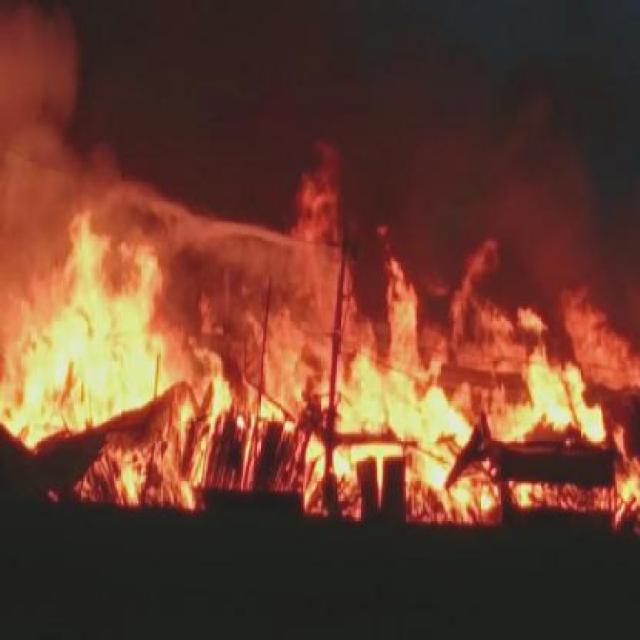Fire: (1, 144, 640, 382), (64, 222, 156, 412), (347, 356, 465, 450), (410, 452, 496, 526), (22, 326, 62, 443), (112, 454, 146, 504), (178, 462, 200, 509), (211, 382, 237, 416), (0, 388, 18, 437), (620, 467, 638, 516), (507, 482, 535, 509), (177, 392, 192, 434)
